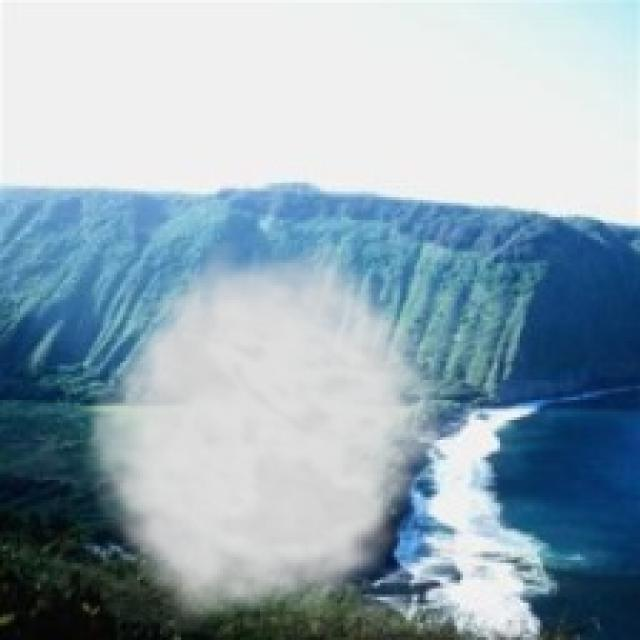Smoke: (74, 237, 460, 634)
